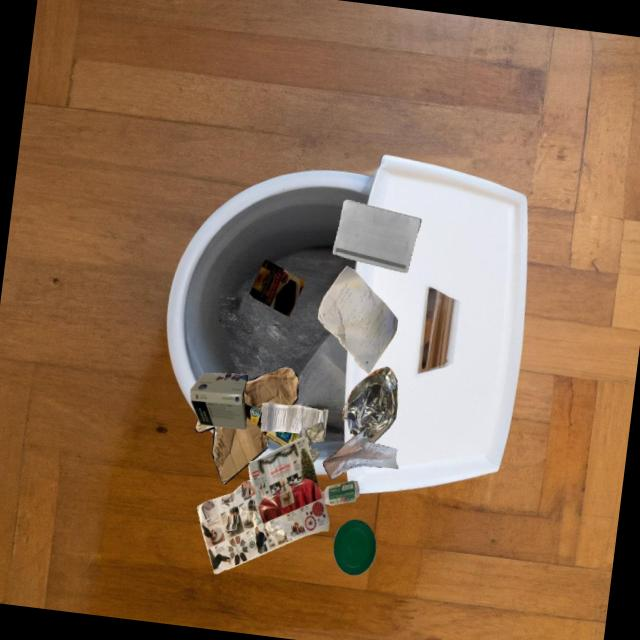cardboard: (195, 417, 268, 483), (190, 373, 248, 429), (249, 259, 305, 317), (243, 367, 298, 411)
glass: (244, 403, 299, 446)
metal: (342, 366, 397, 443)
paper: (196, 436, 329, 573), (317, 265, 397, 373), (332, 199, 421, 272), (322, 430, 398, 479), (260, 402, 327, 433), (297, 421, 325, 462)
plastic: (333, 519, 376, 575), (320, 480, 359, 505)
